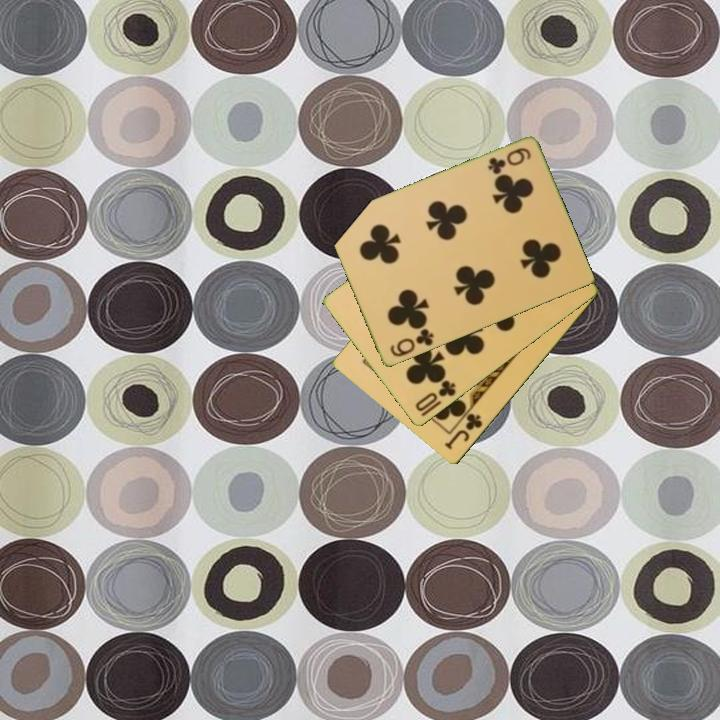10c: (412, 377, 459, 420)
6c: (386, 325, 437, 360), (484, 144, 534, 177)
Jc: (441, 410, 486, 453)
